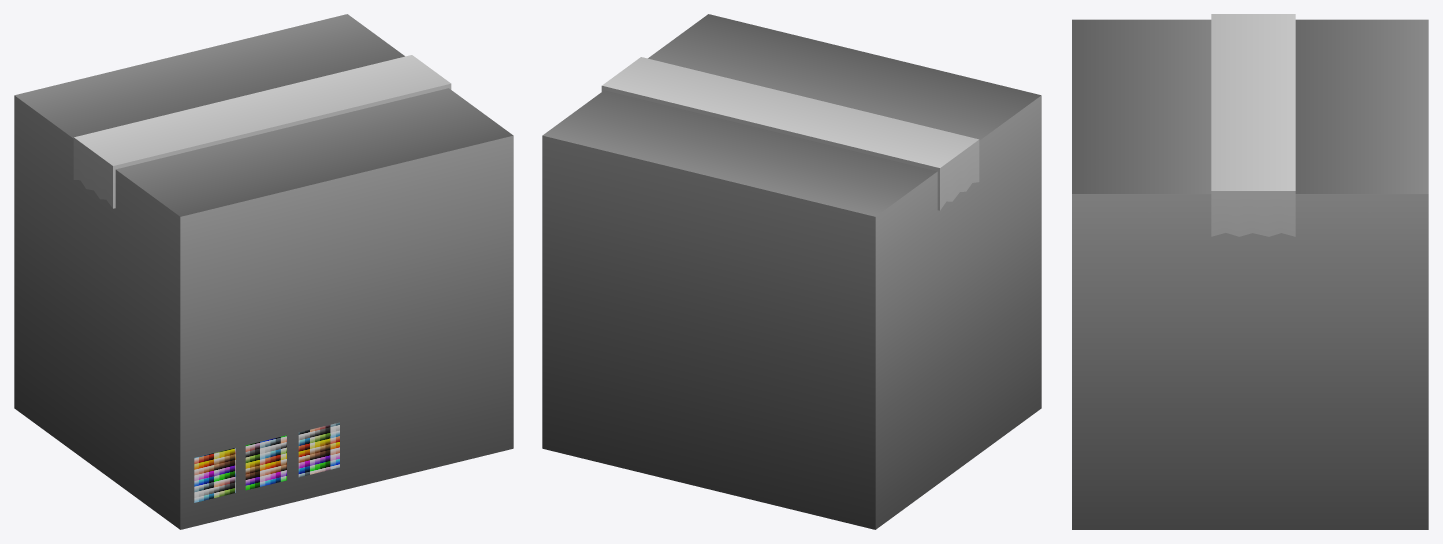
File: Paquete1.fbx
3 views of the same model, side by side, from view 1: azimuth 30°, elevation 25°; view 2: azimuth 150°, elevation 25°; view 3: azimuth 270°, elevation 25° (orthographic). The views are drawn at different scales.
Parts seen in each view (by area): view 1: Paquete1, celo_paquete1, Etiquetas1; view 2: Paquete1, celo_paquete1; view 3: Paquete1, celo_paquete1.
Part boxes in pixels (x1=…): Paquete1: x1=14, y1=14, x2=513, y2=529; celo_paquete1: x1=73, y1=55, x2=451, y2=208; Etiquetas1: x1=194, y1=422, x2=339, y2=502; Paquete1: x1=542, y1=14, x2=1041, y2=529; celo_paquete1: x1=601, y1=57, x2=979, y2=210; Paquete1: x1=1072, y1=19, x2=1428, y2=529; celo_paquete1: x1=1211, y1=14, x2=1295, y2=236.
Bounding box in the file's own units: 7.04 × 6.31 × 6.02.
